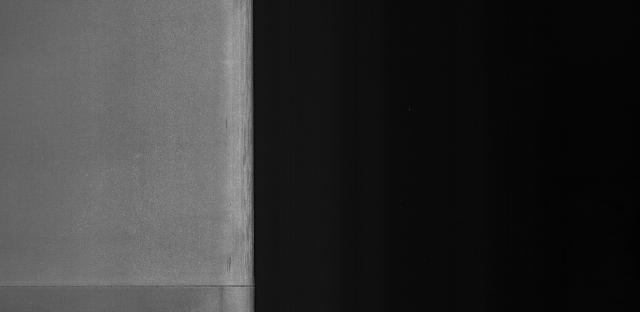welding_line: (3, 273, 268, 298)
